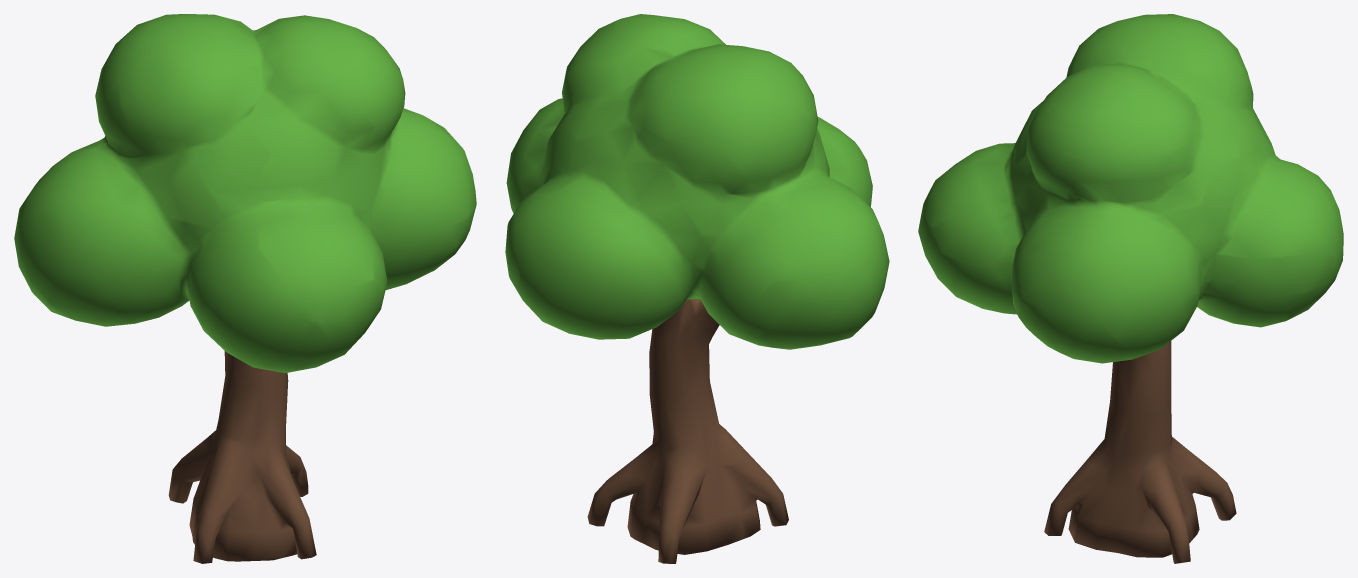
Rendered from tree_oak_small.glb.
3 renders of one model, left to right at view 1: azimuth 30°, elevation 25°; view 2: azimuth 150°, elevation 25°; view 3: azimuth 270°, elevation 25°, orthographic. The views are drawn at different scales.
Parts seen in each view (by area): view 1: Canopy, Trunk; view 2: Canopy, Trunk; view 3: Canopy, Trunk.
Boxes of the visible parts, bbox=[...] form: Canopy: bbox=[14, 14, 476, 373]; Trunk: bbox=[168, 351, 316, 563]; Canopy: bbox=[505, 14, 889, 349]; Trunk: bbox=[587, 299, 788, 563]; Canopy: bbox=[918, 14, 1343, 363]; Trunk: bbox=[1044, 341, 1236, 563].
Size of what is drawn, in the model's own units: 4.22 by 5.09 by 4.03.
